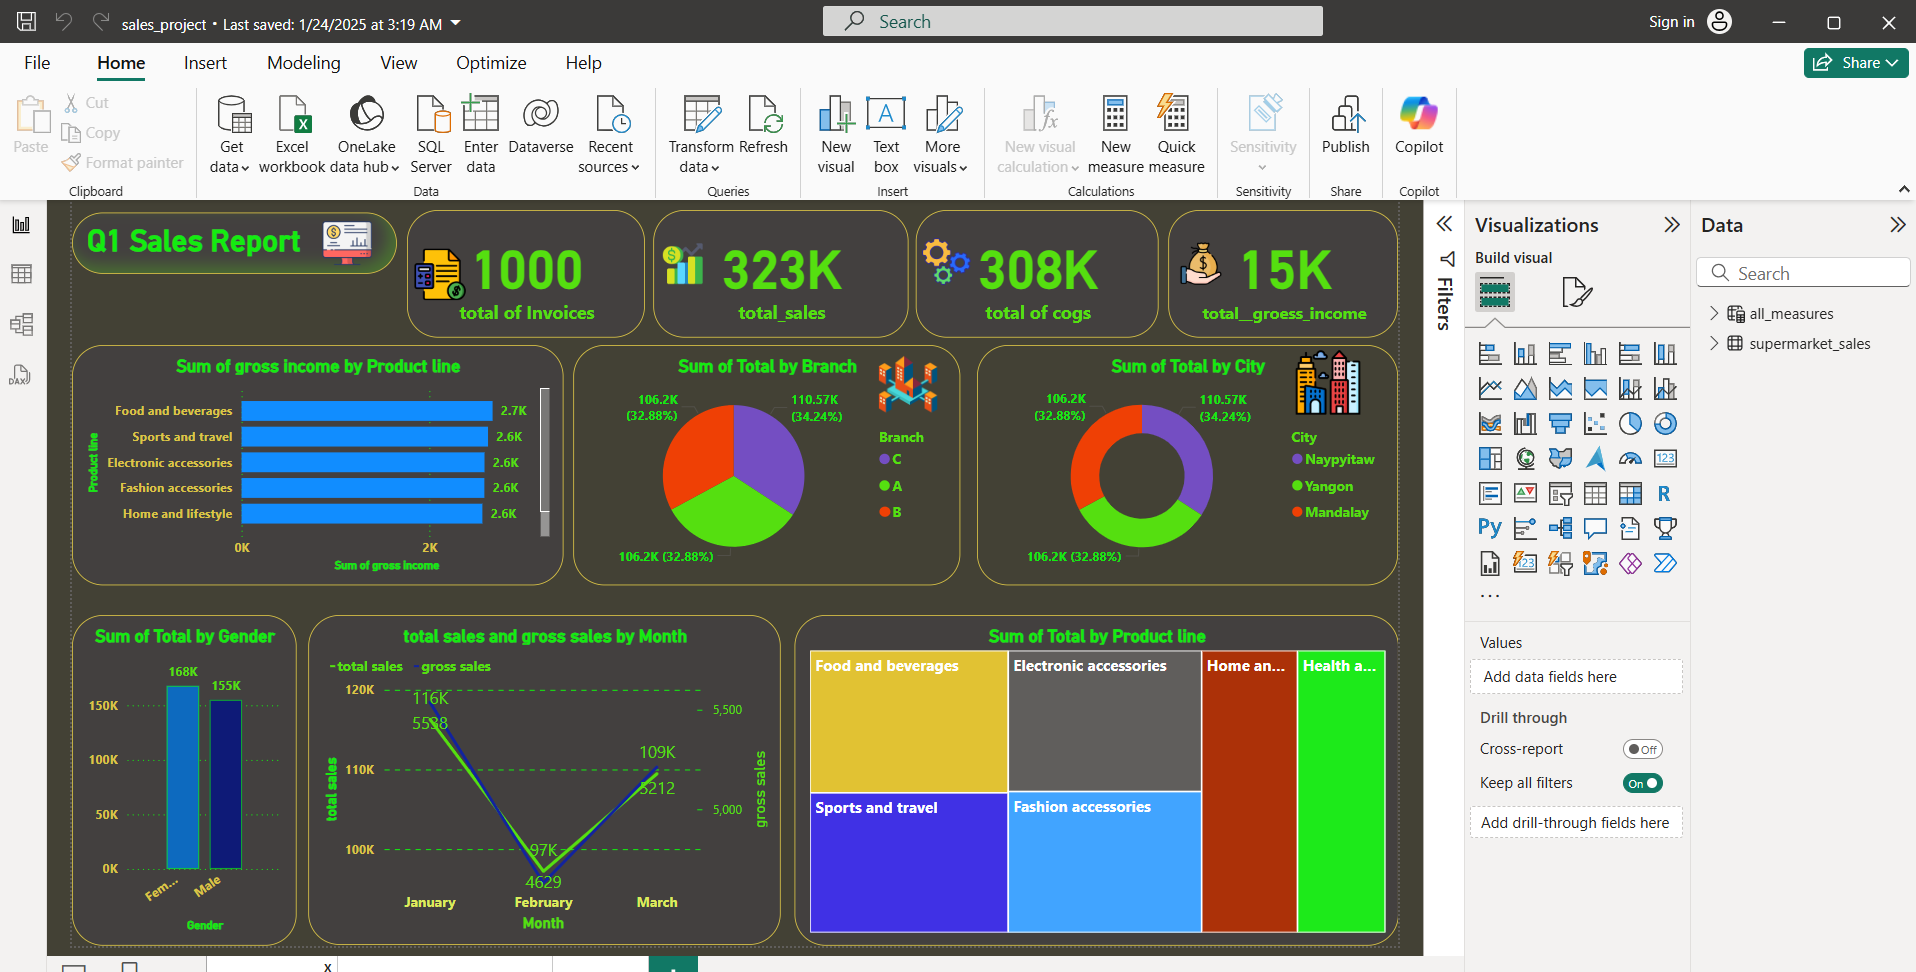

This screenshot's page, from the dashboard's own definition file:
{"tool":"powerbi","page":{"name":"sales report","canvas":[1280,720],"ordinal":0},"visuals":[{"type":"card","fields":{"Values":["all_measures.total_income"]},"box":[1058,9.7,222,123.1],"z":0},{"type":"card","fields":{"Values":["Sum(supermarket_sales.Total)"]},"box":[561,9.7,246.1,123.1],"z":1000},{"type":"card","fields":{"Values":["Sum(supermarket_sales.cogs)"]},"box":[814.3,9.7,234,123.1],"z":2000},{"type":"donutChart","fields":{"Category":["supermarket_sales.City"],"Y":["Sum(supermarket_sales.Total)"]},"box":[873.5,139.9,406.6,231.6],"z":4000},{"type":"treemap","fields":{"Group":["supermarket_sales.Product line"],"Values":["Sum(supermarket_sales.Total)"]},"box":[697.2,400,583.3,319.4],"z":5000},{"type":"clusteredColumnChart","fields":{"Category":["supermarket_sales.Gender"],"Y":["Sum(supermarket_sales.Total)"]},"box":[0,400,216.7,319.4],"z":6000},{"type":"lineChart","fields":{"Category":["supermarket_sales.Date.Variation.Date Hierarchy.Month"],"Y":["Sum(supermarket_sales.Total)"],"Y2":["Sum(supermarket_sales.gross income)"]},"box":[228,400.5,456,318.5],"z":7000},{"type":"barChart","fields":{"Category":["supermarket_sales.Product line"],"Y":["Sum(supermarket_sales.gross income)"]},"box":[0,139.9,474.1,231.6],"z":8000},{"type":"card","fields":{"Values":["CountNonNull(supermarket_sales.Invoice ID)"]},"box":[323.3,9.7,229.2,123.1],"z":9000},{"type":"textbox","title":"Q1 Sales Report","box":[0,12.1,313.7,59.1],"z":10000},{"type":"image","box":[1058,36.2,62.7,50.7],"z":11000},{"type":"image","box":[814.3,29,59.1,60.3],"z":12000},{"type":"image","box":[561,33.8,56.7,55.5],"z":13000},{"type":"image","box":[228,12.1,74.8,59.1],"z":14000},{"type":"image","box":[323.3,42.2,63.9,59.1],"z":15000},{"type":"image","box":[772.1,142.4,70,70],"z":16000},{"type":"image","box":[1169,139.9,85.7,72.4],"z":17000},{"type":"pieChart","fields":{"Category":["supermarket_sales.Branch"],"Y":["Sum(supermarket_sales.Total)"]},"box":[483.8,139.9,374,231.6],"z":17001}]}

Visuals, with their boxes on the page's 1280x720 design canvas (x1, y1, x2, y2). These are canvas units, not pixel positions in the 1916x972 screenshot, which may show the page scaled, cropped or inside an application window:
card - all_measures.total_income: {"left": 1058, "top": 10, "right": 1280, "bottom": 133}
card - Sum(supermarket_sales.Total): {"left": 561, "top": 10, "right": 807, "bottom": 133}
card - Sum(supermarket_sales.cogs): {"left": 814, "top": 10, "right": 1048, "bottom": 133}
donutChart - supermarket_sales.City x Sum(supermarket_sales.Total): {"left": 874, "top": 140, "right": 1280, "bottom": 372}
treemap - supermarket_sales.Product line x Sum(supermarket_sales.Total): {"left": 697, "top": 400, "right": 1280, "bottom": 719}
clusteredColumnChart - supermarket_sales.Gender x Sum(supermarket_sales.Total): {"left": 0, "top": 400, "right": 217, "bottom": 719}
lineChart - supermarket_sales.Date.Variation.Date Hierarchy.Month x Sum(supermarket_sales.Total): {"left": 228, "top": 400, "right": 684, "bottom": 719}
barChart - supermarket_sales.Product line x Sum(supermarket_sales.gross income): {"left": 0, "top": 140, "right": 474, "bottom": 372}
card - CountNonNull(supermarket_sales.Invoice ID): {"left": 323, "top": 10, "right": 552, "bottom": 133}
"Q1 Sales Report" textbox: {"left": 0, "top": 12, "right": 314, "bottom": 71}
image: {"left": 1058, "top": 36, "right": 1121, "bottom": 87}
image: {"left": 814, "top": 29, "right": 873, "bottom": 89}
image: {"left": 561, "top": 34, "right": 618, "bottom": 89}
image: {"left": 228, "top": 12, "right": 303, "bottom": 71}
image: {"left": 323, "top": 42, "right": 387, "bottom": 101}
image: {"left": 772, "top": 142, "right": 842, "bottom": 212}
image: {"left": 1169, "top": 140, "right": 1255, "bottom": 212}
pieChart - supermarket_sales.Branch x Sum(supermarket_sales.Total): {"left": 484, "top": 140, "right": 858, "bottom": 372}
